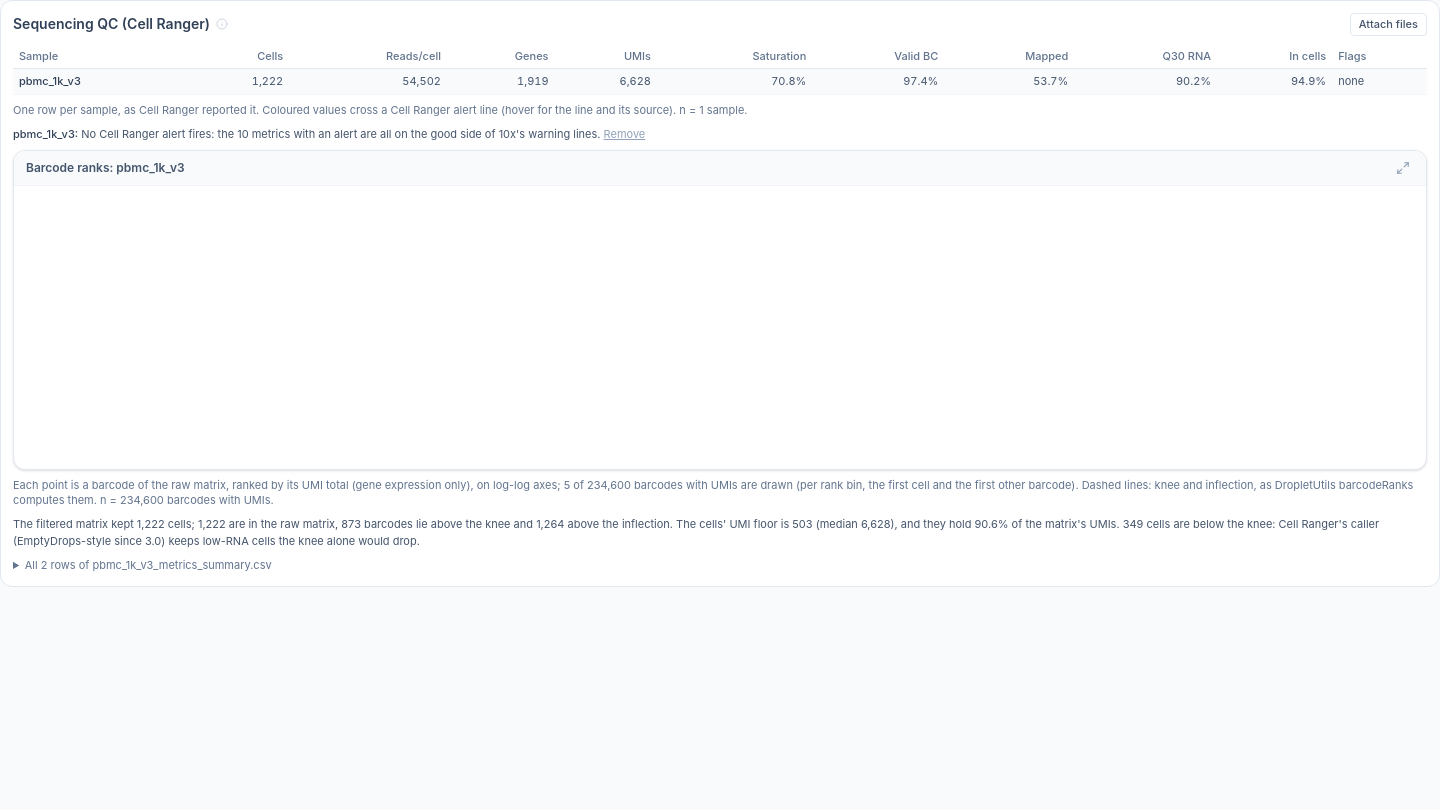
Test case: SequencingQc › removes a sample's metrics and falls back to the attach prompt when none is left
Expected: the table with test id "seqqc-table" is shown, [13,44,1427,94]
Step 1. Click the button "Remove" → (624,134), box [604,126,645,142]
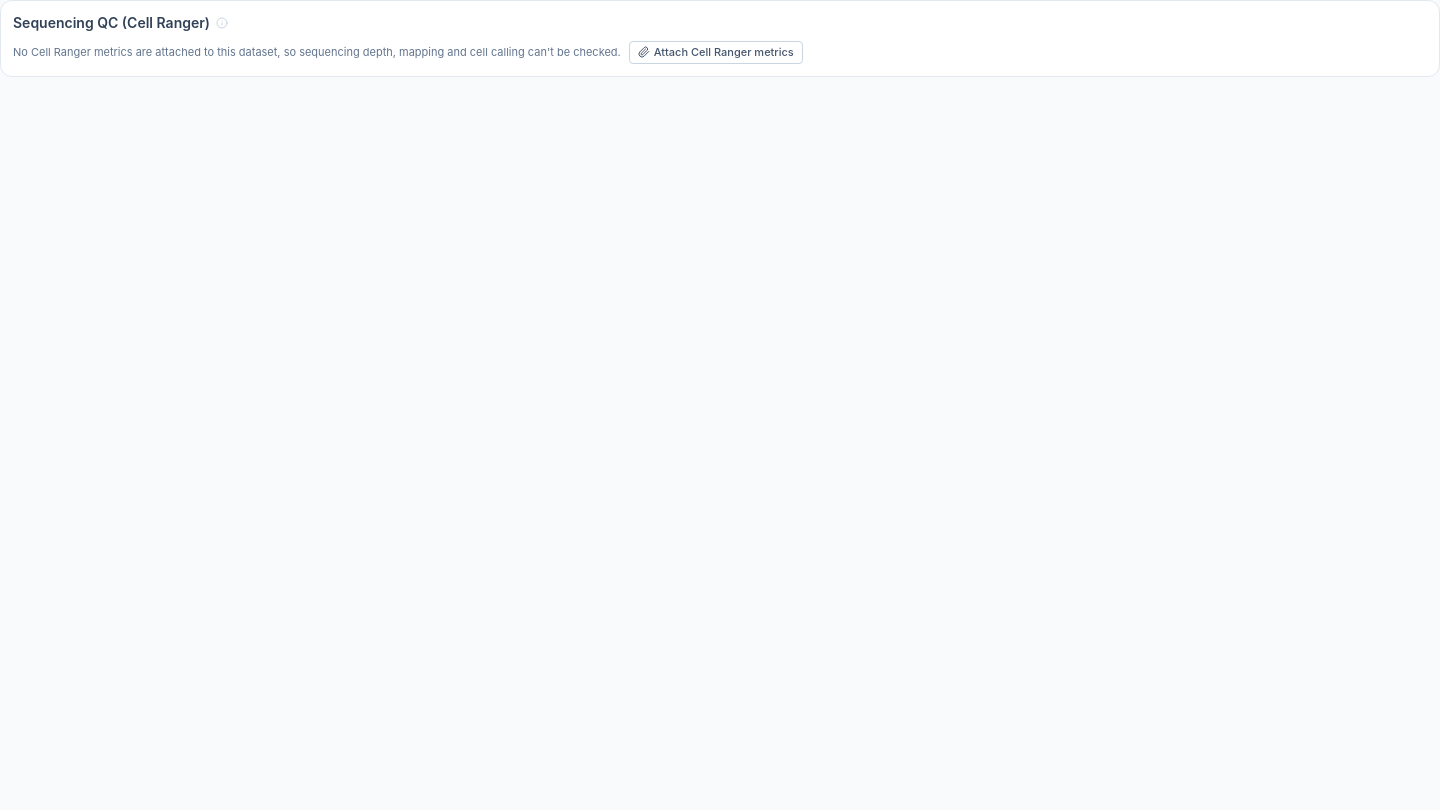
Expected: the element with test id "seqqc-none" is shown, [13,41,803,64]
